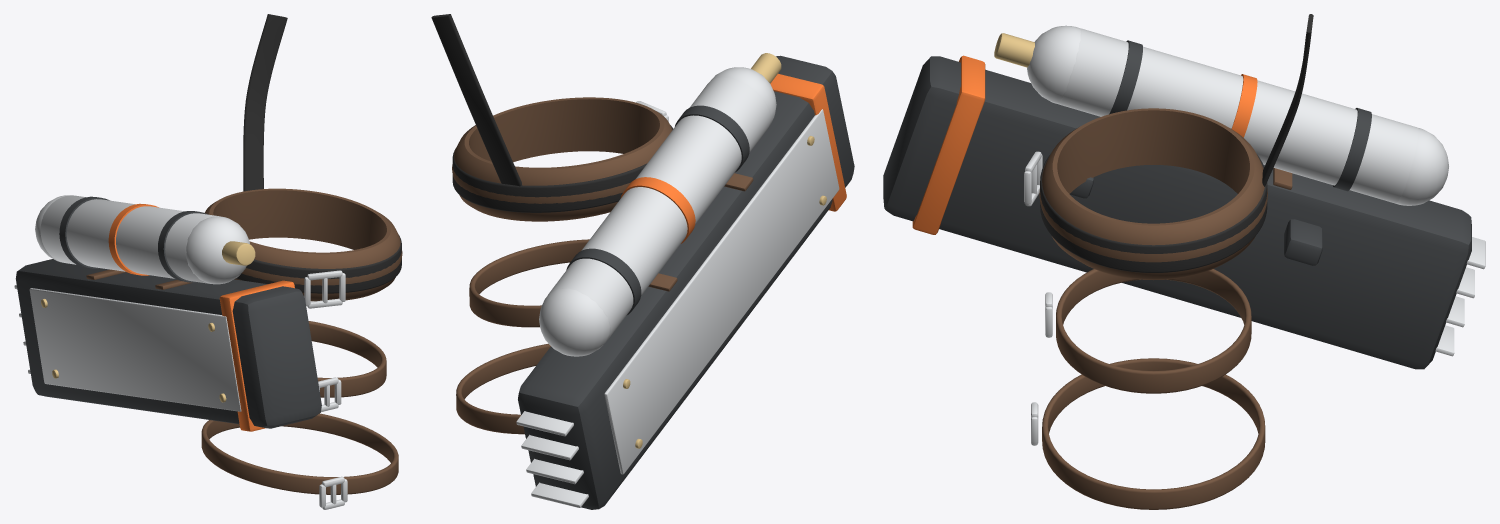
Rendered from SM_Harness_ThighB.fbx.
3 renders of one model, left to right at view 1: azimuth 30°, elevation 25°; view 2: azimuth 150°, elevation 25°; view 3: azimuth 270°, elevation 25°, orthographic. The views are drawn at different scales.
Visible parts, largest first — view 1: SM_Harness_ThighB; view 2: SM_Harness_ThighB; view 3: SM_Harness_ThighB.
Part boxes in pixels (<box>): SM_Harness_ThighB: <box>14,14,402,509</box>; SM_Harness_ThighB: <box>431,14,854,509</box>; SM_Harness_ThighB: <box>883,14,1485,509</box>.
Size of the model in its own units: 0.2761 by 0.4294 by 0.5004.
